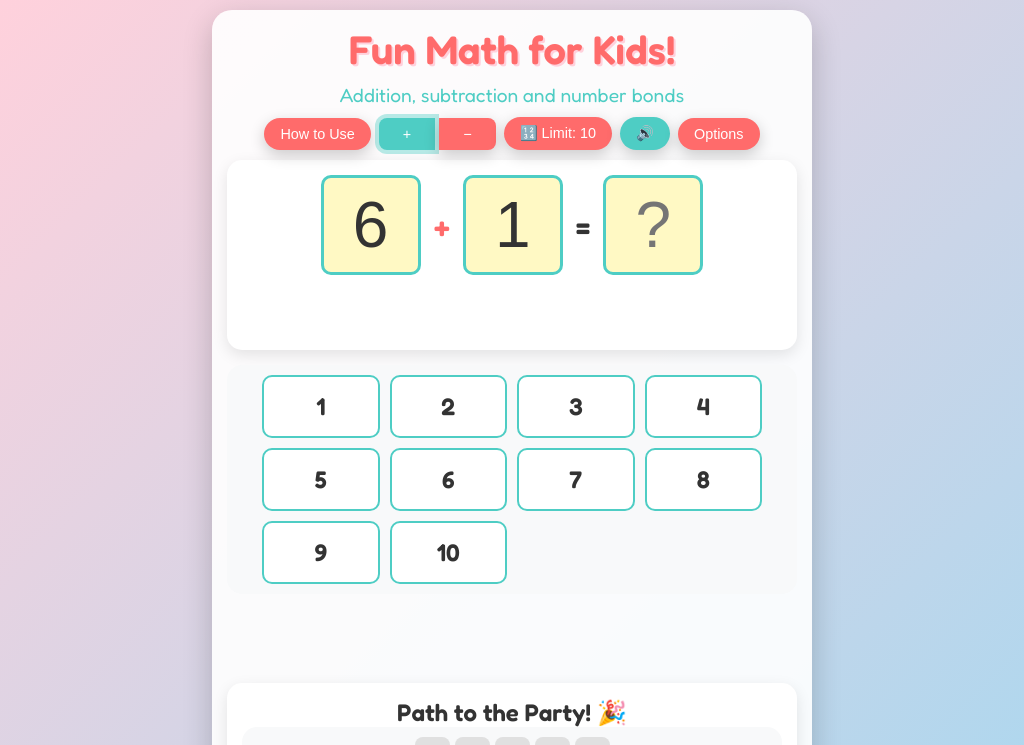
Test: App.vue › toggles mute button and shows correct icon
Click the button with class "action-btn" showing "🔊" at point(645, 134), box x1=620 y1=117 x2=670 y2=150
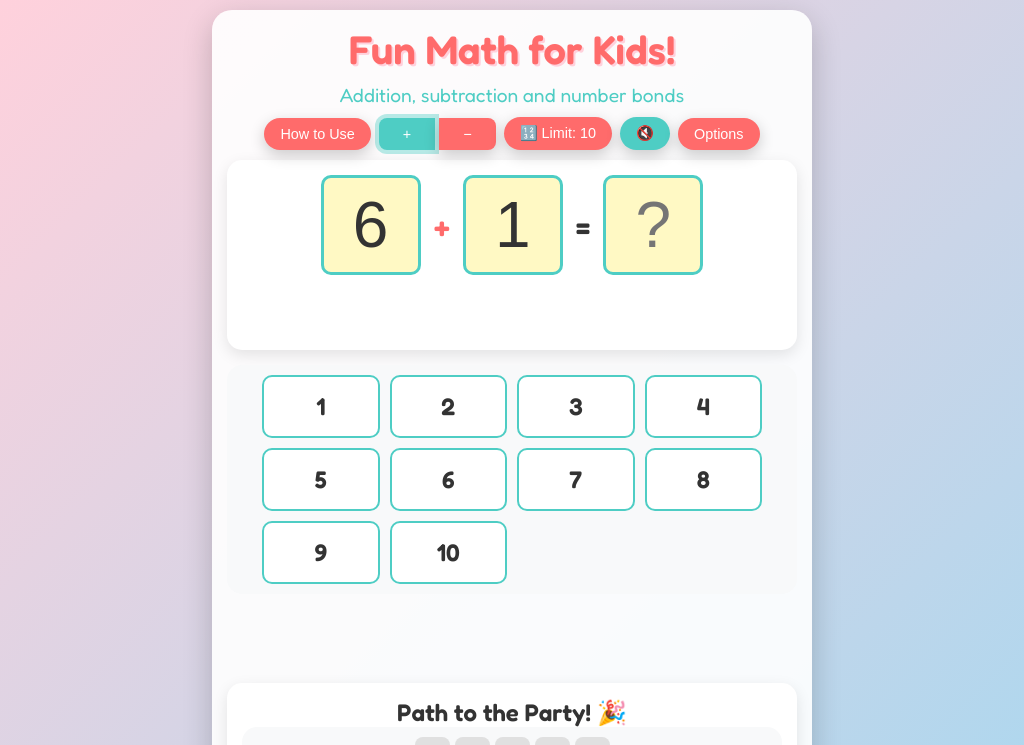
Expected: the button with class "action-btn" reads "🔇"
Click the button with class "action-btn" showing "🔇" at point(645, 134), box x1=620 y1=117 x2=670 y2=150
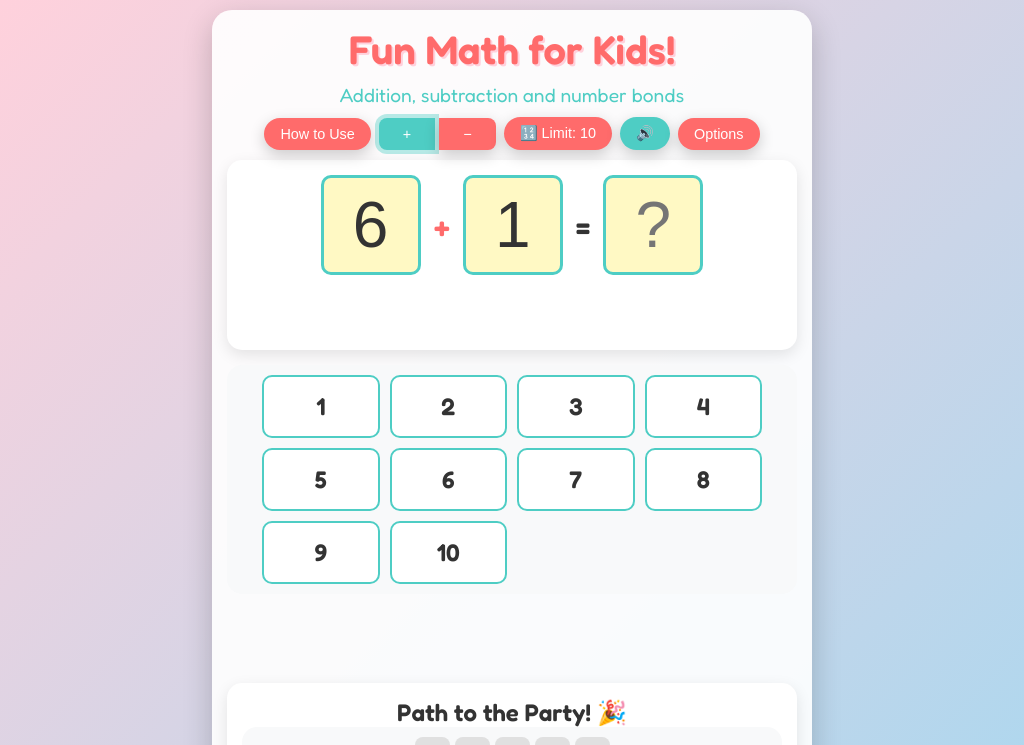
Expected: the button with class "action-btn" reads "🔊", x1=620 y1=117 x2=670 y2=150
